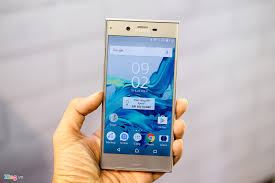sony: (99, 14, 182, 174)
